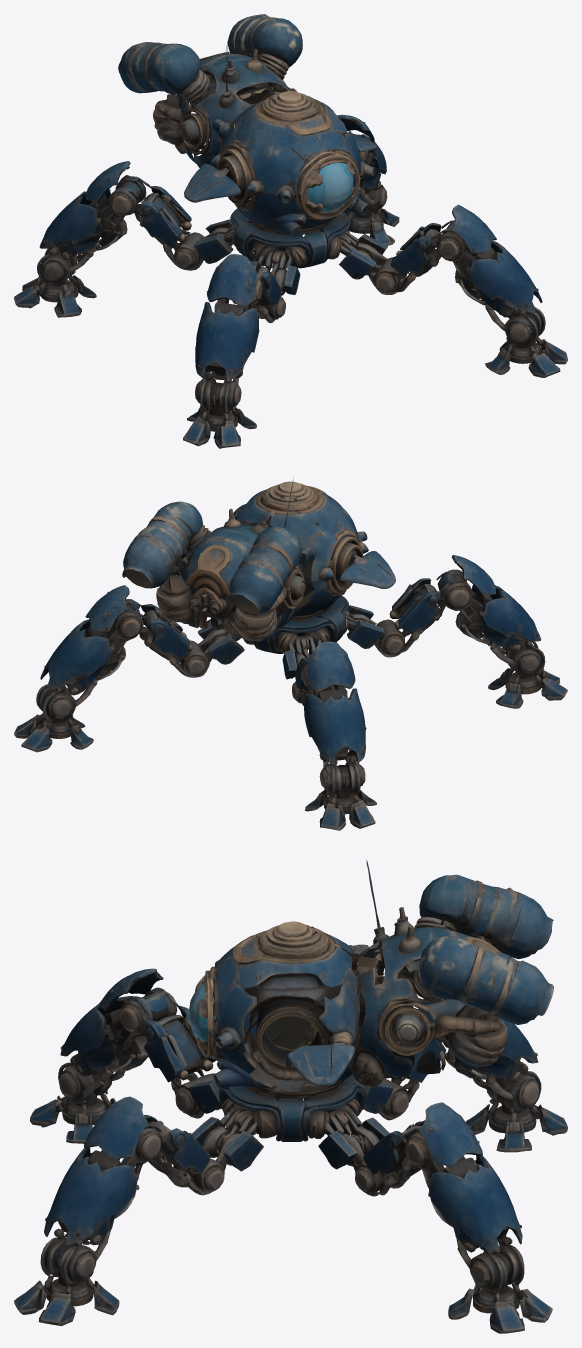
The model's file is mecha_03.glb.
3 renders of one model, top to bottom at view 1: azimuth 30°, elevation 25°; view 2: azimuth 150°, elevation 25°; view 3: azimuth 270°, elevation 25°, orthographic. The views are drawn at different scales.
Visible parts, largest first — view 1: part_000_DORSAL_MODULE, part_004_DORSAL_MODULE, part_006_REAR_SHIN_L, part_003_HULL_CORE, part_010_AFT_REACTOR, part_005_FRONT_SHIN_R, part_019_FRONT_SHIN_L, part_007_FRONT_PAW_R, part_022_FRONT_SHIN_R, part_002_FRONT_SHIN_L, part_008_REAR_PAW_L, part_009_REAR_SHIN_L (+16 smaller); view 2: part_000_DORSAL_MODULE, part_001_REAR_PAW_R, part_002_FRONT_SHIN_L, part_004_DORSAL_MODULE, part_010_AFT_REACTOR, part_006_REAR_SHIN_L, part_008_REAR_PAW_L, part_023_REAR_SHIN_R, part_003_HULL_CORE, part_011_FRONT_PAW_L, part_031_REAR_THIGH_L, part_019_FRONT_SHIN_L (+13 smaller); view 3: part_000_DORSAL_MODULE, part_004_DORSAL_MODULE, part_002_FRONT_SHIN_L, part_001_REAR_PAW_R, part_010_AFT_REACTOR, part_007_FRONT_PAW_R, part_023_REAR_SHIN_R, part_022_FRONT_SHIN_R, part_003_HULL_CORE, part_008_REAR_PAW_L, part_005_FRONT_SHIN_R, part_012_FRONT_SHIN_R (+18 smaller).
Part boxes in pixels (left/top/right/bottom): part_000_DORSAL_MODULE: left=177, top=14, right=368, bottom=219; part_004_DORSAL_MODULE: left=210, top=99, right=374, bottom=236; part_006_REAR_SHIN_L: left=39, top=175, right=151, bottom=262; part_003_HULL_CORE: left=201, top=208, right=350, bottom=270; part_010_AFT_REACTOR: left=118, top=42, right=210, bottom=103; part_005_FRONT_SHIN_R: left=390, top=220, right=518, bottom=331; part_019_FRONT_SHIN_L: left=195, top=302, right=259, bottom=381; part_007_FRONT_PAW_R: left=485, top=307, right=567, bottom=377; part_022_FRONT_SHIN_R: left=466, top=240, right=542, bottom=312; part_002_FRONT_SHIN_L: left=205, top=250, right=300, bottom=384; part_008_REAR_PAW_L: left=14, top=245, right=96, bottom=317; part_009_REAR_SHIN_L: left=139, top=186, right=191, bottom=251; part_000_DORSAL_MODULE: left=122, top=478, right=343, bottom=630; part_001_REAR_PAW_R: left=14, top=599, right=191, bottom=752; part_002_FRONT_SHIN_L: left=345, top=569, right=524, bottom=665; part_004_DORSAL_MODULE: left=236, top=485, right=368, bottom=616; part_010_AFT_REACTOR: left=229, top=525, right=302, bottom=613; part_006_REAR_SHIN_L: left=302, top=662, right=366, bottom=767; part_008_REAR_PAW_L: left=305, top=759, right=376, bottom=830; part_023_REAR_SHIN_R: left=40, top=619, right=114, bottom=689; part_003_HULL_CORE: left=253, top=595, right=352, bottom=706; part_011_FRONT_PAW_L: left=488, top=638, right=545, bottom=708; part_031_REAR_THIGH_L: left=306, top=641, right=355, bottom=692; part_019_FRONT_SHIN_L: left=471, top=584, right=541, bottom=641; part_000_DORSAL_MODULE: left=196, top=859, right=553, bottom=1088; part_004_DORSAL_MODULE: left=210, top=931, right=368, bottom=1092; part_002_FRONT_SHIN_L: left=73, top=987, right=221, bottom=1118; part_001_REAR_PAW_R: left=363, top=1120, right=552, bottom=1333; part_010_AFT_REACTOR: left=414, top=874, right=553, bottom=959; part_007_FRONT_PAW_R: left=14, top=1228, right=119, bottom=1326; part_023_REAR_SHIN_R: left=427, top=1155, right=522, bottom=1252; part_022_FRONT_SHIN_R: left=44, top=1147, right=139, bottom=1245; part_003_HULL_CORE: left=218, top=1074, right=398, bottom=1141; part_008_REAR_PAW_L: left=466, top=1063, right=567, bottom=1152; part_005_FRONT_SHIN_R: left=58, top=1114, right=203, bottom=1245; part_012_FRONT_SHIN_R: left=186, top=1110, right=263, bottom=1195.
Size of the model in its own units: 0.9993 by 0.6746 by 0.9989.
Materials: 45 (45 with a texture image).
